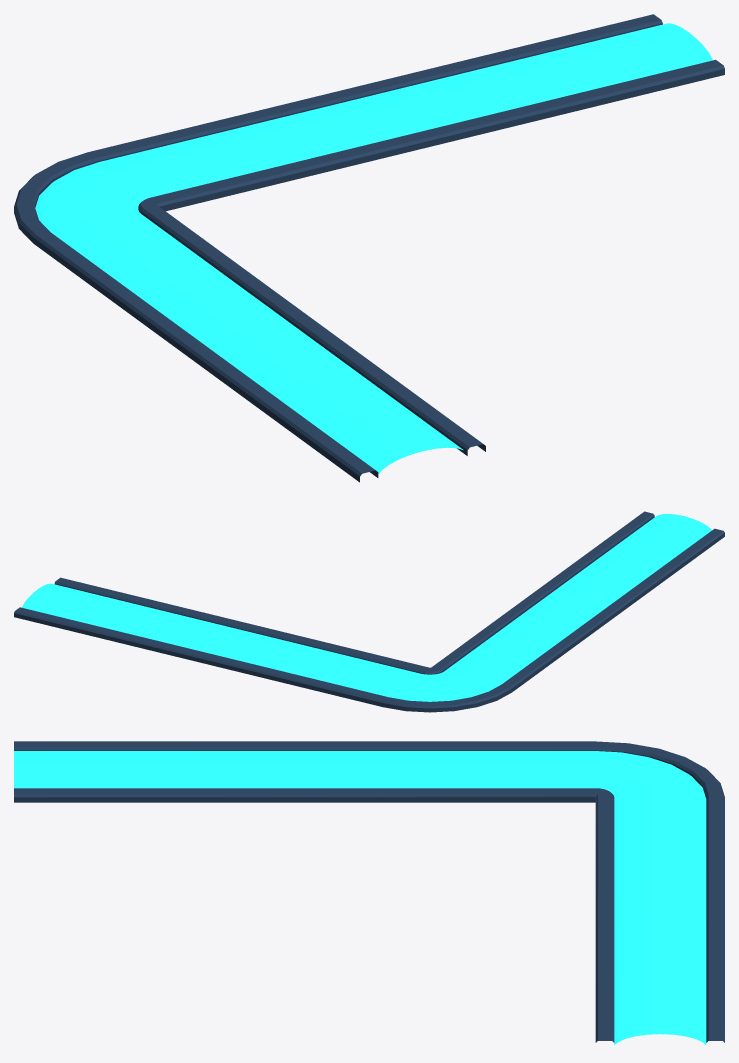
File: Light_Trim_01_RoundCorner.glb
3 renders of one model, top to bottom at view 1: azimuth 30°, elevation 25°; view 2: azimuth 150°, elevation 25°; view 3: azimuth 270°, elevation 25°, orthographic. The views are drawn at different scales.
Parts seen in each view (by area): view 1: Light_Trim_01_RoundCorner.001; view 2: Light_Trim_01_RoundCorner.001; view 3: Light_Trim_01_RoundCorner.001.
Boxes of the visible parts, x1,y1,x2,y2 form: Light_Trim_01_RoundCorner.001: (14,14,724,482); Light_Trim_01_RoundCorner.001: (14,511,724,712); Light_Trim_01_RoundCorner.001: (14,741,724,1044).
Bounding box in the file's own units: 0.55 × 0.0123 × 0.55.
